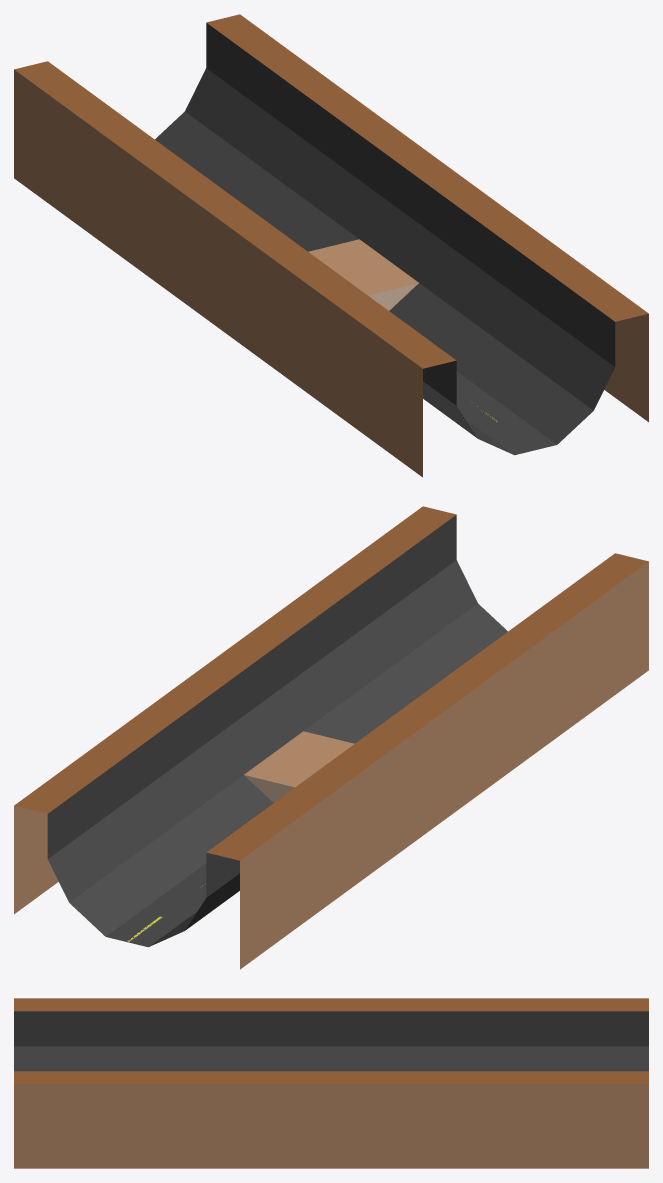
Rendered from hpip.obj.
3 renders of one model, top to bottom at view 1: azimuth 30°, elevation 25°; view 2: azimuth 150°, elevation 25°; view 3: azimuth 270°, elevation 25°, orthographic. The views are drawn at different scales.
Bounding box in the file's own units: 328 × 151 × 1028.
